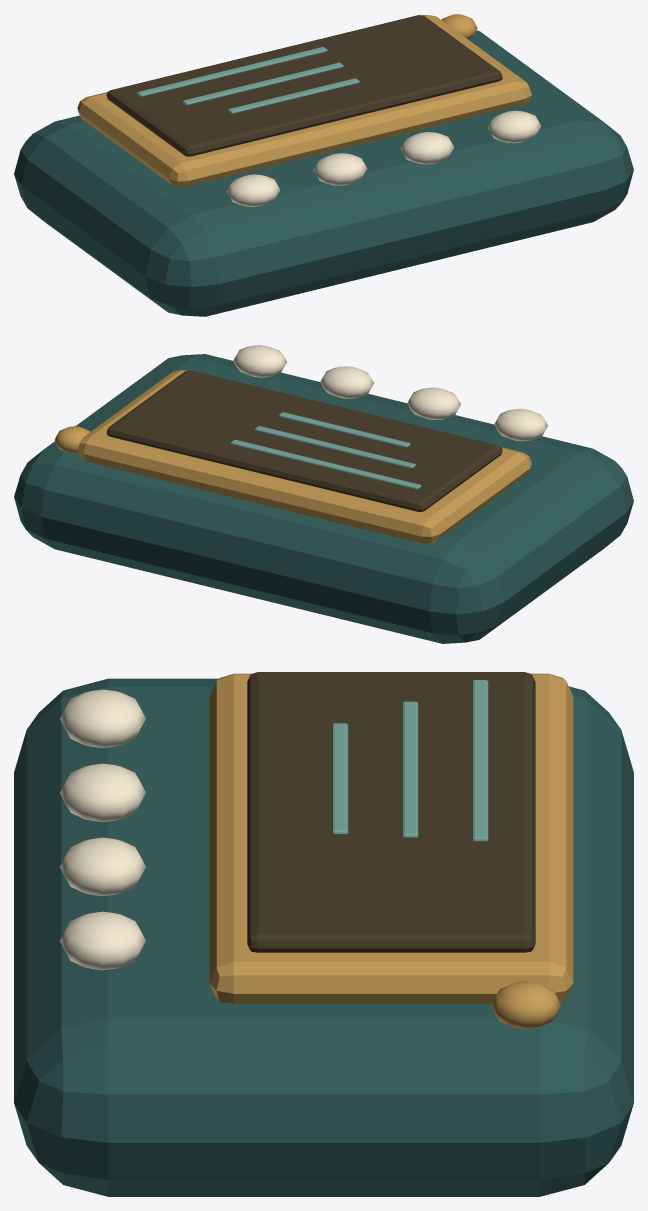
3 renders of one model, top to bottom at view 1: azimuth 30°, elevation 25°; view 2: azimuth 150°, elevation 25°; view 3: azimuth 270°, elevation 25°, orthographic. The views are drawn at different scales.
Visible parts, largest first — view 1: loft_teal_dark, loft_glass, loft_brass, loft_cream, loft_teal_light; view 2: loft_teal_dark, loft_glass, loft_brass, loft_cream, loft_teal_light; view 3: loft_teal_dark, loft_glass, loft_brass, loft_cream, loft_teal_light.
Boxes of the visible parts, x1=… form: loft_teal_dark: x1=14, y1=30, x2=633, y2=316; loft_glass: x1=106, y1=15, x2=502, y2=156; loft_brass: x1=77, y1=14, x2=531, y2=187; loft_cream: x1=226, y1=110, x2=541, y2=206; loft_teal_light: x1=137, y1=47, x2=359, y2=113; loft_teal_dark: x1=14, y1=354, x2=633, y2=643; loft_glass: x1=106, y1=370, x2=502, y2=511; loft_brass: x1=54, y1=370, x2=531, y2=543; loft_cream: x1=233, y1=345, x2=547, y2=441; loft_teal_light: x1=230, y1=412, x2=421, y2=489; loft_teal_dark: x1=14, y1=678, x2=633, y2=1196; loft_glass: x1=247, y1=672, x2=535, y2=952; loft_brass: x1=209, y1=673, x2=573, y2=1028; loft_cream: x1=60, y1=689, x2=145, y2=970; loft_teal_light: x1=332, y1=680, x2=488, y2=842.
Size of the model in its own units: 0.36 by 0.092 by 0.23.
